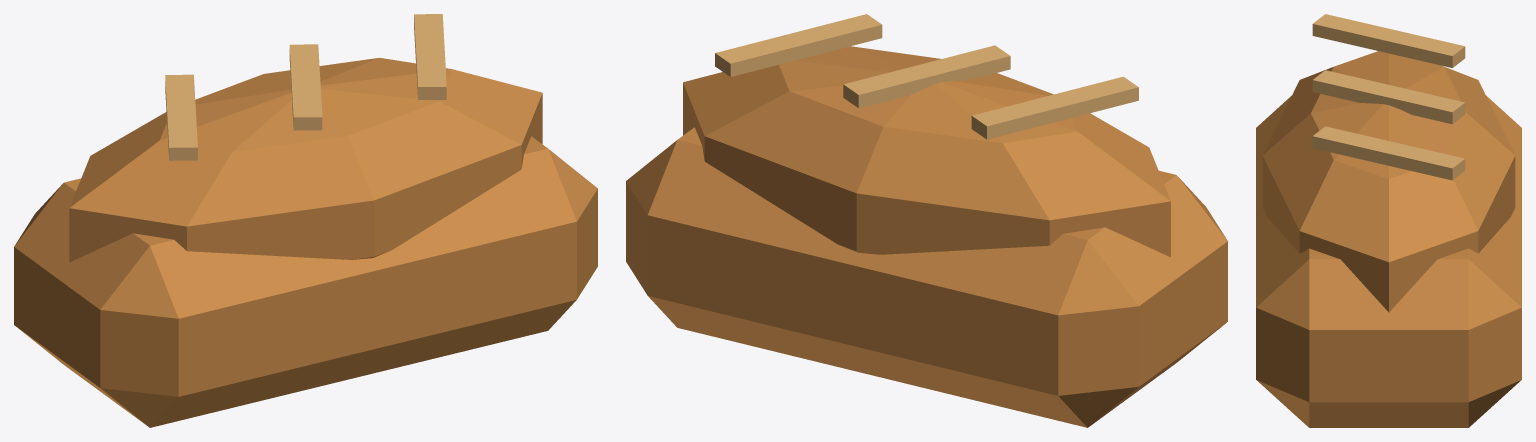
Rendered from bread.fbx.
3 renders of one model, left to right at view 1: azimuth 30°, elevation 25°; view 2: azimuth 150°, elevation 25°; view 3: azimuth 270°, elevation 25°, orthographic. The views are drawn at different scales.
Parts seen in each view (by area): view 1: bread; view 2: bread; view 3: bread.
Boxes of the visible parts, <box> form: bread: <box>14,14,597,427</box>; bread: <box>626,14,1227,427</box>; bread: <box>1256,14,1521,427</box>.
Bounding box in the file's own units: 0.8 × 0.41 × 0.4.
